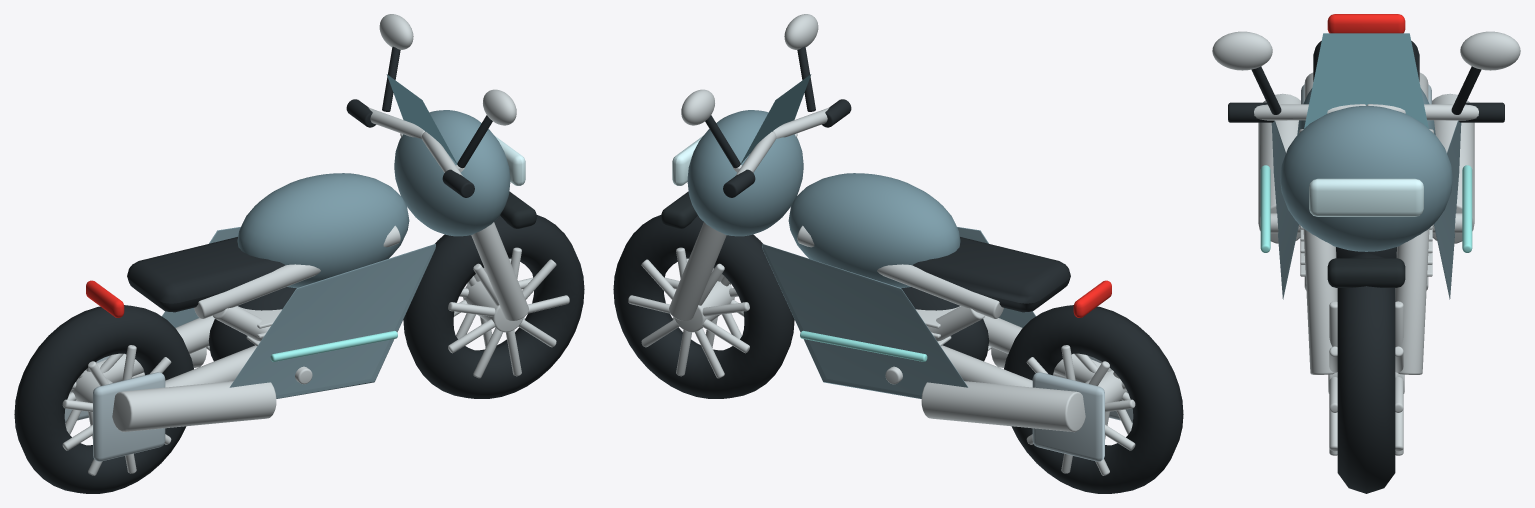
The model's file is FutureMotorcycle.fbx.
3 renders of one model, left to right at view 1: azimuth 30°, elevation 25°; view 2: azimuth 150°, elevation 25°; view 3: azimuth 270°, elevation 25°, orthographic. The views are drawn at different scales.
Visible parts, largest first — view 1: BodyPaint, BrushedAlloy.002, TrimRubber, TrimRubber.001, BodyPaintFuture, TrimRubber.002, BrushedAlloy, BrushedAlloyFuture, BrushedAlloy.001, Glazing, HeadlampFuture, TrimRubberFuture (+2 smaller); view 2: BodyPaint, BrushedAlloy.002, TrimRubber, TrimRubber.001, BodyPaintFuture, TrimRubber.002, BrushedAlloy, BrushedAlloyFuture, BrushedAlloy.001, Glazing, HeadlampFuture, TrimRubberFuture (+2 smaller); view 3: BrushedAlloy.002, BodyPaint, TrimRubber, Glazing, Headlamp, BodyPaintFuture, TrimRubber.002, BrushedAlloy, TrimRubberFuture, HeadlampFuture, Taillamp.
Boxes of the visible parts, box(x1,y1,x2,y2) form: BodyPaint: box(237, 110, 510, 287); BrushedAlloy.002: box(96, 14, 528, 432); TrimRubber: box(403, 215, 584, 398); TrimRubber.001: box(14, 305, 193, 493); BodyPaintFuture: box(162, 227, 435, 398); TrimRubber.002: box(127, 46, 492, 361); BrushedAlloy: box(448, 247, 569, 378); BrushedAlloyFuture: box(64, 355, 165, 461); BrushedAlloy.001: box(62, 345, 171, 475); Glazing: box(386, 74, 457, 164); HeadlampFuture: box(270, 330, 397, 361); TrimRubberFuture: box(500, 191, 536, 228); BodyPaint: box(687, 110, 960, 287); BrushedAlloy.002: box(669, 14, 1101, 432); TrimRubber: box(613, 215, 794, 398); TrimRubber.001: box(1004, 305, 1183, 493); BodyPaintFuture: box(762, 227, 1035, 398); TrimRubber.002: box(705, 46, 1070, 361); BrushedAlloy: box(628, 247, 749, 378); BrushedAlloyFuture: box(1032, 355, 1133, 461); BrushedAlloy.001: box(1026, 345, 1135, 475); Glazing: box(740, 74, 811, 164); HeadlampFuture: box(800, 330, 927, 361); TrimRubberFuture: box(661, 191, 697, 228); BrushedAlloy.002: box(1212, 31, 1520, 374); BodyPaint: box(1280, 88, 1452, 251); TrimRubber: box(1337, 252, 1395, 493); Glazing: box(1304, 33, 1428, 128); Headlamp: box(1309, 178, 1423, 216); BodyPaintFuture: box(1271, 120, 1461, 299); TrimRubber.002: box(1228, 41, 1504, 258); BrushedAlloy: box(1328, 301, 1404, 455); TrimRubberFuture: box(1327, 258, 1405, 287); HeadlampFuture: box(1260, 165, 1472, 252); Taillamp: box(1327, 14, 1405, 33).
Bounding box in the file's own units: 271 × 162 × 107.
